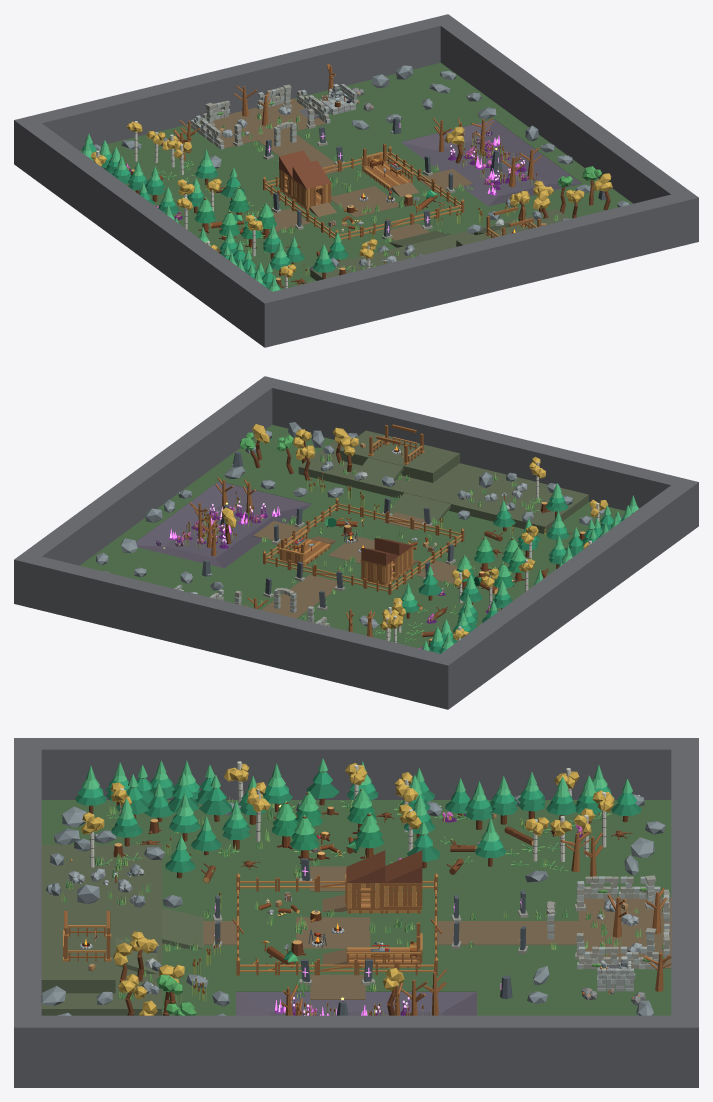
File: playtest_hollow.glb
3 renders of one model, top to bottom at view 1: azimuth 30°, elevation 25°; view 2: azimuth 150°, elevation 25°; view 3: azimuth 270°, elevation 25°, orthographic. The views are drawn at different scales.
Parts seen in each view (by area): view 1: Wall_South, Ground_Main, Wall_North, Wall_West, Wall_East, Ground_MireNorth, Ruins_Court, Ridge_Tier1, Mire_BasinFloor, Ground_MireSouth, Mire_BankEast, Road_North (+7 smaller); view 2: Wall_North, Ground_Main, Wall_South, Wall_West, Wall_East, Ridge_Tier1, Ground_MireSouth, Ground_MireNorth, Ridge_Tier2, Mire_BasinFloor, Mire_BankEast, Road_North (+8 smaller); view 3: Ground_Main, Wall_East, Wall_West, Ridge_Tier1, Wall_North, Wall_South, Ridge_Tier2, Ground_MireNorth, Road_North, Ruins_Court, Mire_BankWest, Camp_Plaza (+7 smaller).
Part boxes in pixels (left/top/right/bottom): Wall_South: left=254, top=190, right=698, bottom=347; Ground_Main: left=80, top=90, right=507, bottom=289; Wall_North: left=14, top=14, right=457, bottom=171; Wall_West: left=24, top=123, right=271, bottom=339; Wall_East: left=440, top=21, right=688, bottom=203; Ground_MireNorth: left=339, top=62, right=511, bottom=141; Ruins_Court: left=190, top=98, right=326, bottom=148; Ridge_Tier1: left=310, top=209, right=569, bottom=280; Mire_BasinFloor: left=434, top=137, right=547, bottom=196; Ground_MireSouth: left=489, top=180, right=632, bottom=220; Mire_BankEast: left=485, top=119, right=581, bottom=183; Road_North: left=252, top=128, right=344, bottom=174; Wall_North: left=14, top=552, right=458, bottom=709; Ground_Main: left=192, top=484, right=625, bottom=648; Wall_South: left=255, top=376, right=698, bottom=533; Wall_West: left=441, top=485, right=688, bottom=701; Wall_East: left=24, top=383, right=272, bottom=565; Ridge_Tier1: left=298, top=440, right=588, bottom=533; Ground_MireSouth: left=201, top=424, right=339, bottom=503; Ground_MireNorth: left=80, top=541, right=223, bottom=592; Ridge_Tier2: left=339, top=430, right=459, bottom=482; Mire_BasinFloor: left=165, top=499, right=276, bottom=558; Mire_BankEast: left=136, top=481, right=222, bottom=545; Road_North: left=262, top=574, right=344, bottom=618; Ground_Main: left=41, top=800, right=671, bottom=991; Wall_East: left=41, top=1015, right=671, bottom=1087; Wall_West: left=41, top=738, right=671, bottom=799; Ridge_Tier1: left=41, top=844, right=161, bottom=1015; Wall_North: left=671, top=738, right=698, bottom=1087; Wall_South: left=14, top=738, right=41, bottom=1087; Ridge_Tier2: left=41, top=917, right=115, bottom=993; Ground_MireNorth: left=477, top=991, right=671, bottom=1015; Road_North: left=437, top=921, right=597, bottom=944; Ruins_Court: left=578, top=897, right=671, bottom=968; Mire_BankWest: left=236, top=992, right=476, bottom=1011; Camp_Plaza: left=296, top=917, right=370, bottom=948.
Bounding box in the file's own units: 74 × 9.53 × 74.
